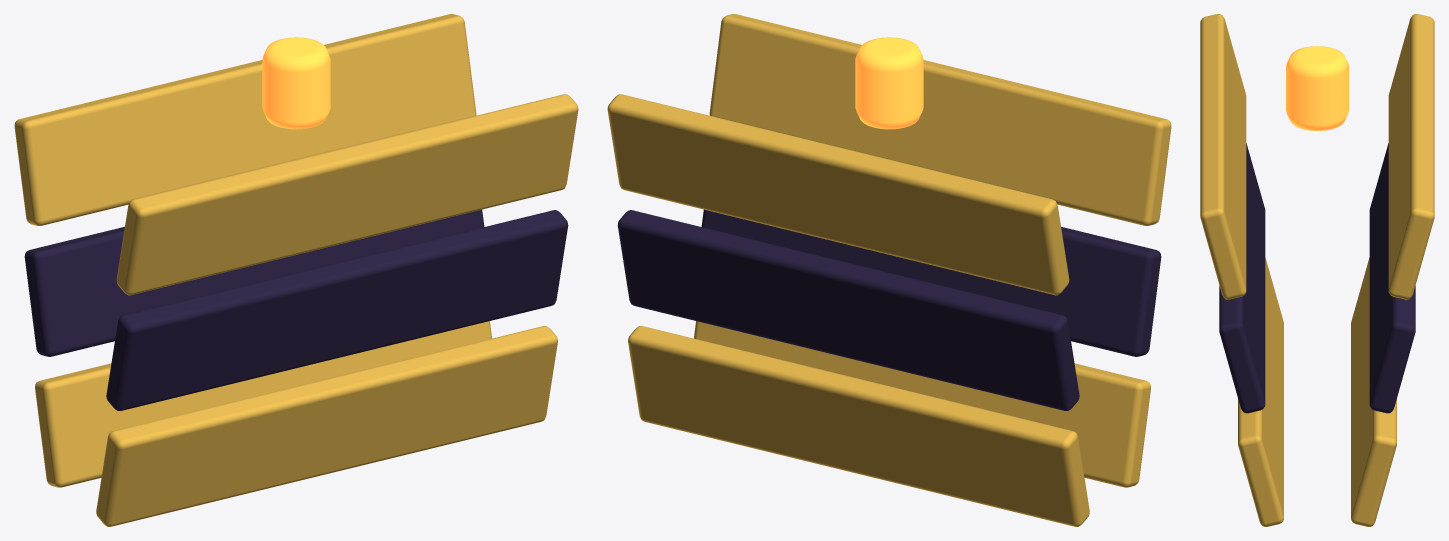
File: work_sign.glb
3 views of the same model, side by side, from view 1: azimuth 30°, elevation 25°; view 2: azimuth 150°, elevation 25°; view 3: azimuth 270°, elevation 25° (orthographic). The views are drawn at different scales.
Parts seen in each view (by area): view 1: work_sign; view 2: work_sign; view 3: work_sign.
Boxes of the visible parts, <box> form: work_sign: <box>14,14,578,526</box>; work_sign: <box>607,14,1171,526</box>; work_sign: <box>1200,14,1434,526</box>.
Size of the model in its own units: 0.75 by 0.66 by 0.3734.
